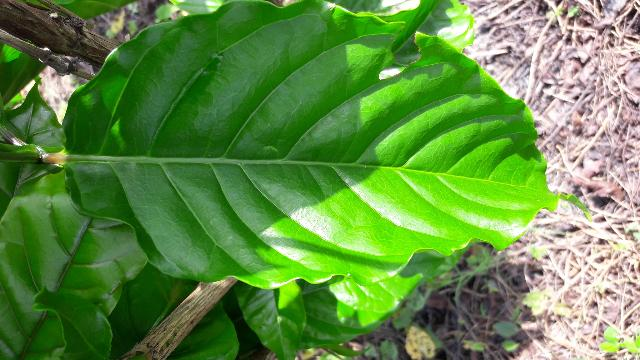healthy: (60, 2, 559, 286)
